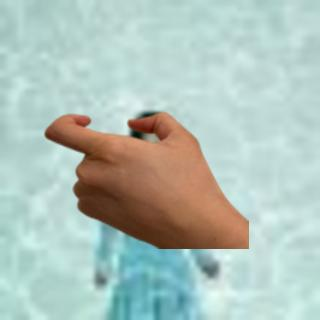HATE: (38, 105, 225, 246)
